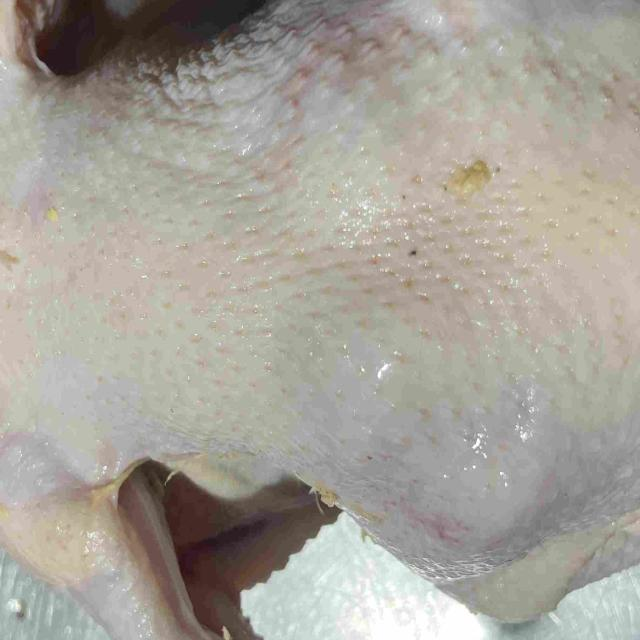back: (0, 0, 640, 452)
leg: (380, 430, 640, 615)
wing: (0, 452, 339, 640)
